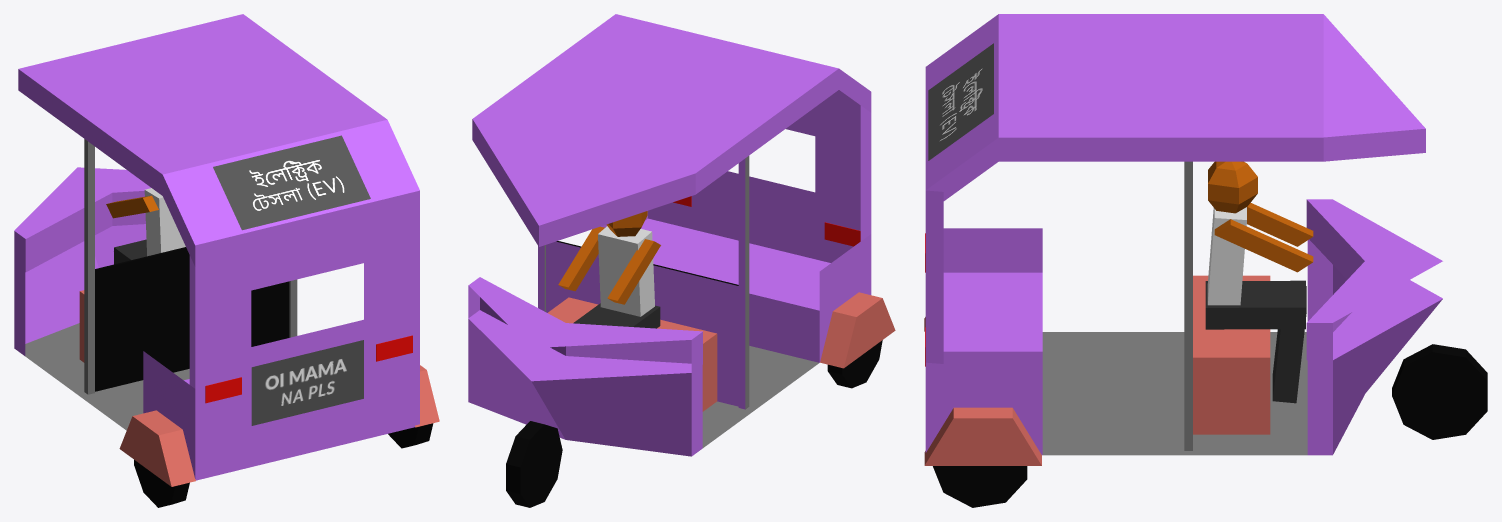
File: TeslaSkin1.glb
3 views of the same model, side by side, from view 1: azimuth 30°, elevation 25°; view 2: azimuth 150°, elevation 25°; view 3: azimuth 270°, elevation 25° (orthographic). The views are drawn at different scales.
Visible parts, largest first — view 1: Tesla, EV, Na pls; view 2: Tesla; view 3: Tesla, EV.
Part boxes in pixels (x1,y1,x2,y2): Tesla: [14, 14, 439, 507]; EV: [213, 135, 370, 230]; Na pls: [251, 340, 363, 425]; Tesla: [468, 14, 895, 507]; Tesla: [924, 14, 1487, 507]; EV: [928, 43, 993, 160].
Bounding box in the file's own units: 2.38 × 2.73 × 3.85.
Materials: 10 (2 with a texture image).
